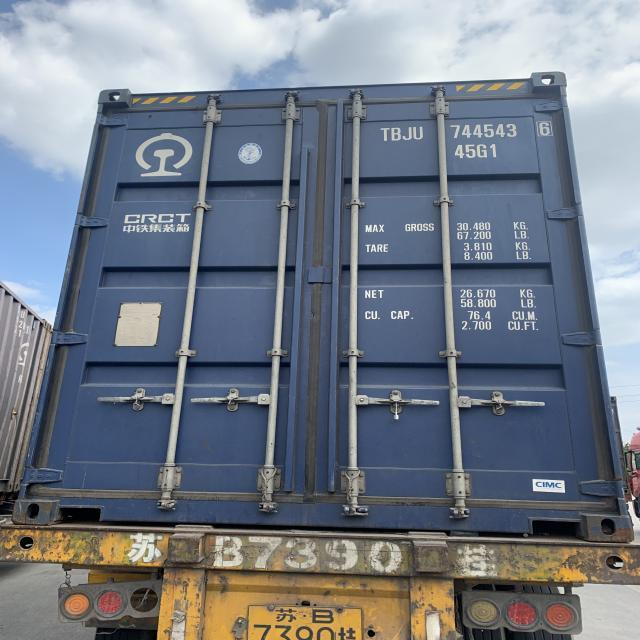ISO: (456, 142, 498, 160)
container_number: (381, 119, 554, 141)
